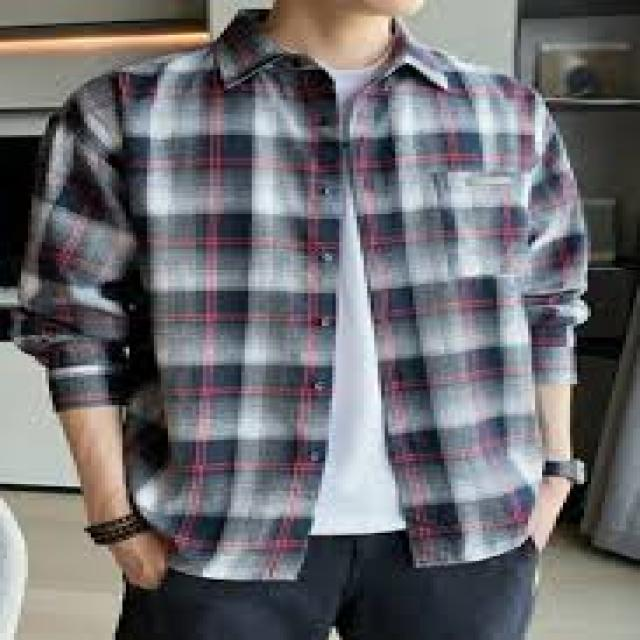plaid: (24, 54, 598, 579)
